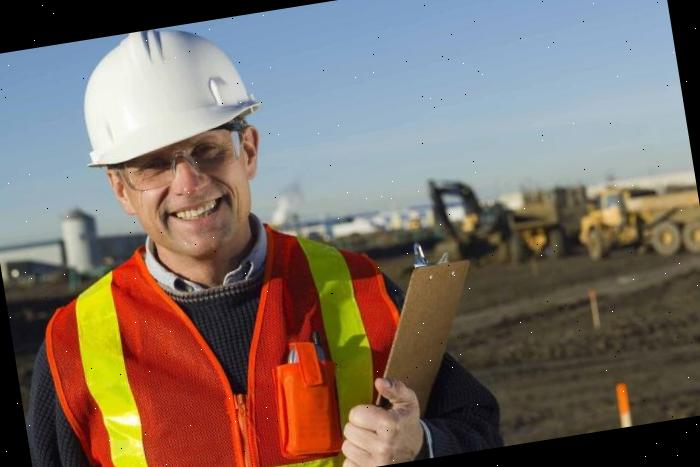helmet: (62, 12, 274, 176)
wear: (29, 227, 417, 467)
